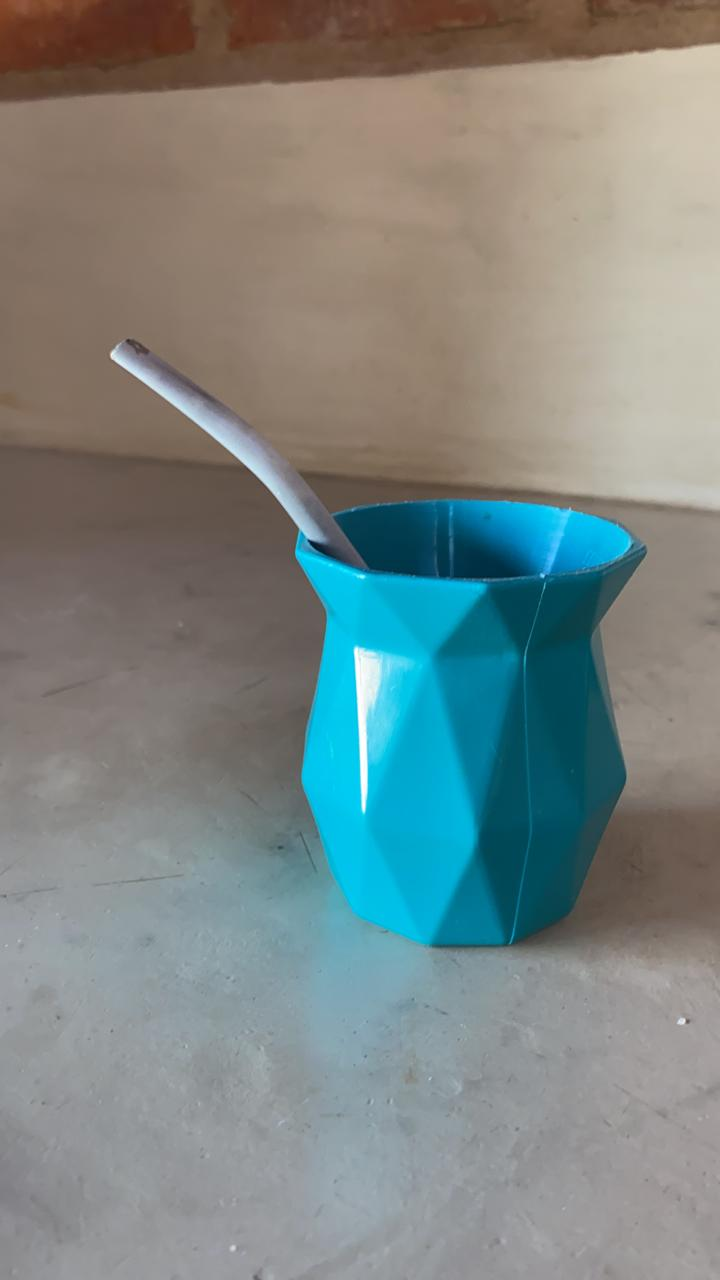mate: (293, 499, 650, 951)
